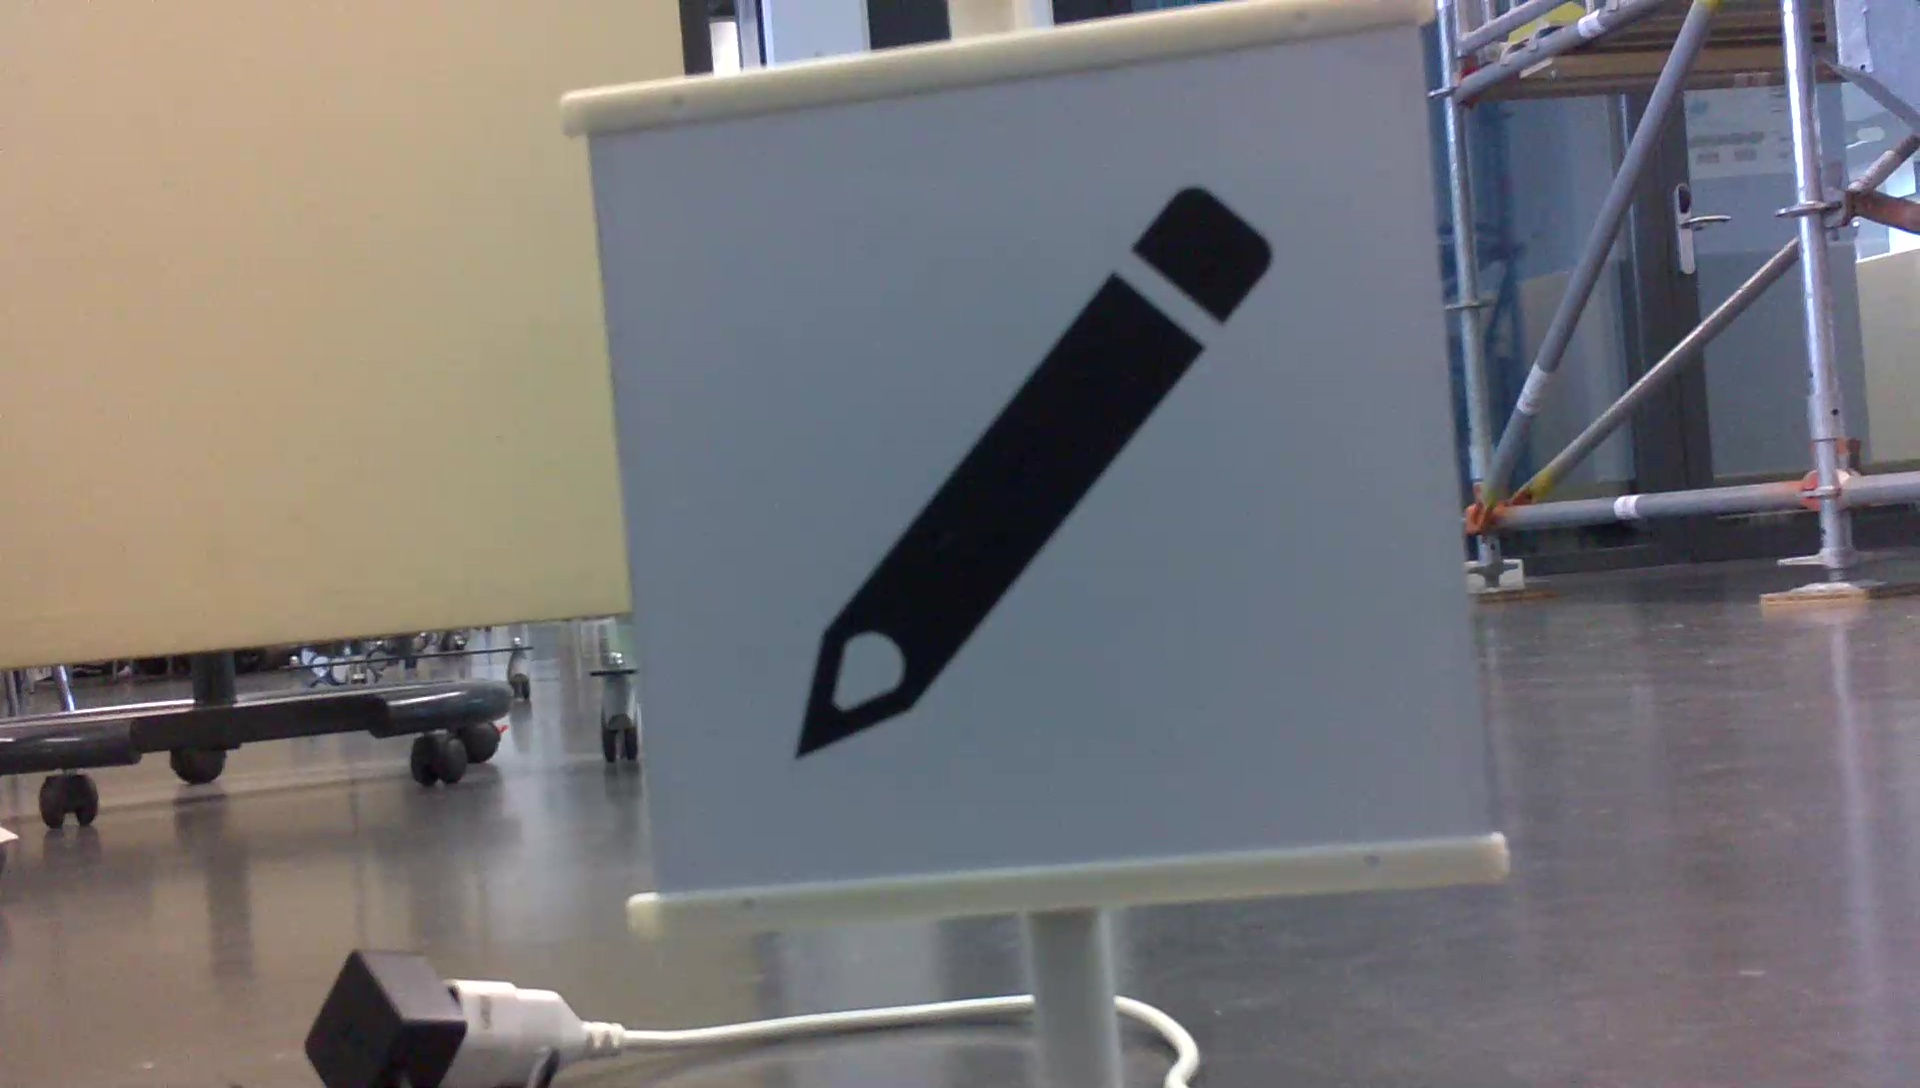pencil: (769, 165, 1288, 771)
